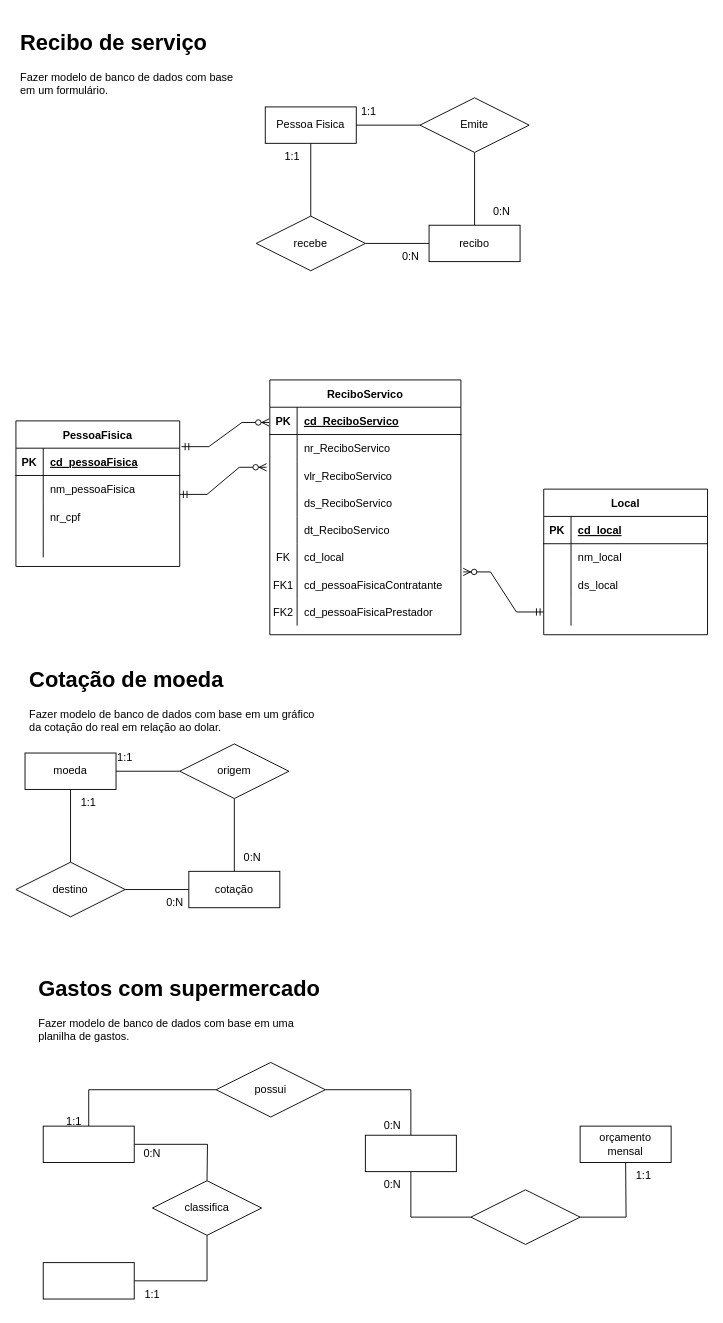
Some shapes in this 723 by 1323 pixel diagram are drawn without their labels. The shapes that lost their labels are listed below. From the top down, each one's centre as x and y in pixels, then its label:
(x=88, y=1144): Itens
(x=410, y=1153): compras
(x=525, y=1216): tem
(x=88, y=1280): Categoria
